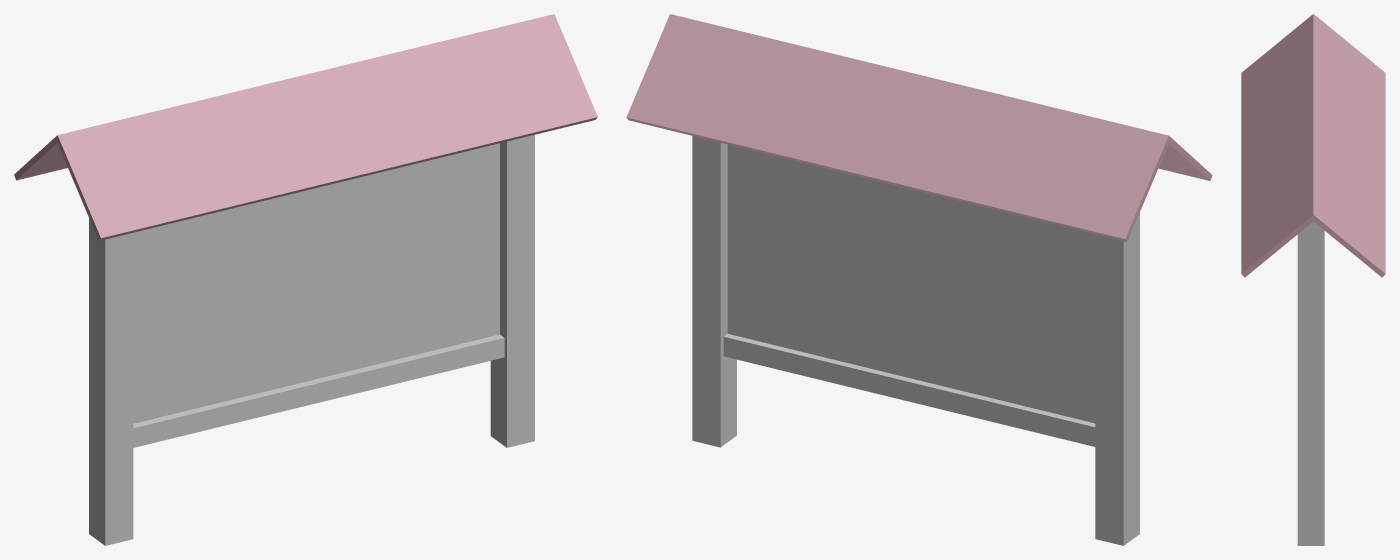
Rendered from informationBoard.fbx.
The picture shows the model from 3 angles, left to right: view 1: azimuth 30°, elevation 25°; view 2: azimuth 150°, elevation 25°; view 3: azimuth 270°, elevation 25°; orthographic projection. The views are drawn at different scales.
Visible parts, largest first — view 1: Cube.002, Cube.001, poteau, poteau.001, poteau.003, Cube; view 2: Cube.002, Cube, poteau, poteau.001, poteau.003, Cube.001; view 3: Cube, Cube.001, poteau.001.
Boxes of the visible parts, x1,y1,x2,y2 form: Cube.002: [133, 143, 499, 423]; Cube.001: [56, 14, 597, 240]; poteau: [89, 218, 133, 545]; poteau.001: [490, 135, 534, 447]; poteau.003: [133, 334, 504, 447]; Cube: [14, 14, 553, 180]; Cube.002: [727, 144, 1095, 423]; Cube: [626, 14, 1170, 241]; poteau: [1095, 212, 1139, 545]; poteau.001: [692, 136, 736, 447]; poteau.003: [723, 333, 1095, 446]; Cube.001: [670, 14, 1212, 180]; Cube: [1310, 14, 1385, 277]; Cube.001: [1241, 14, 1315, 277]; poteau.001: [1297, 221, 1324, 545].
Size of the model in its own units: 530 by 421 by 161.
